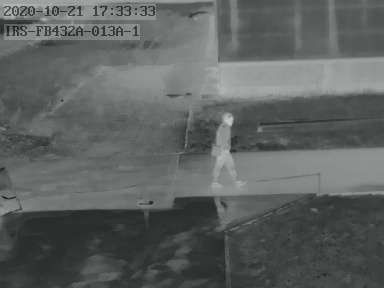person: (211, 112, 247, 188)
